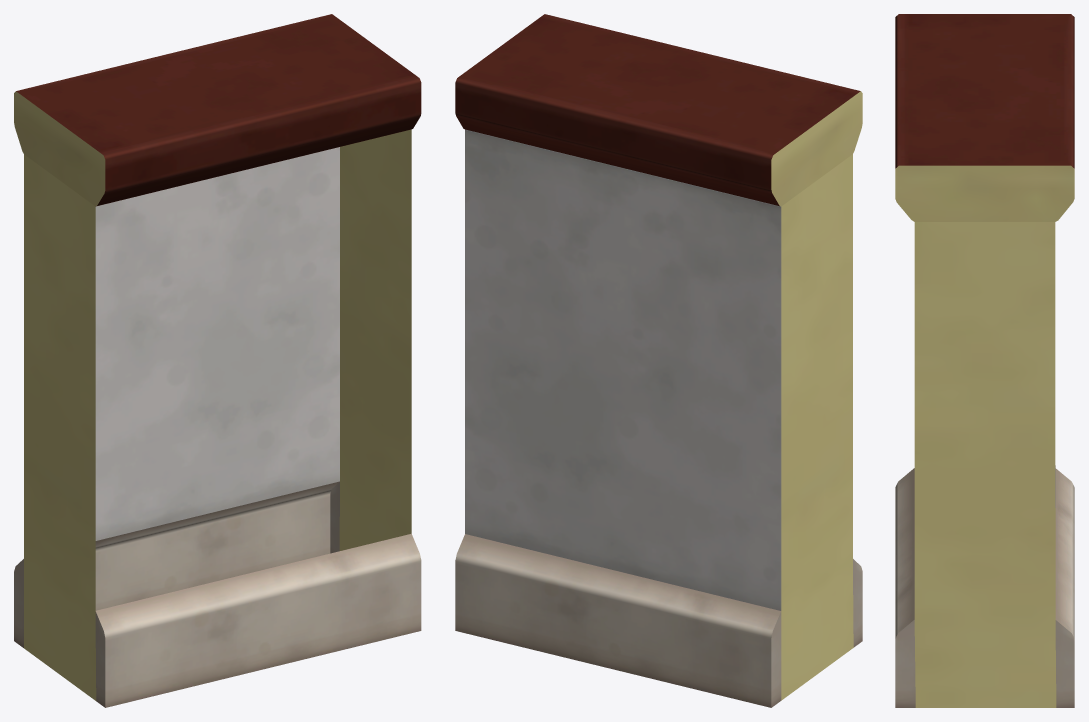
The model's file is Wall_Straight.fbx.
The picture shows the model from 3 angles, left to right: view 1: azimuth 30°, elevation 25°; view 2: azimuth 150°, elevation 25°; view 3: azimuth 270°, elevation 25°; orthographic projection.
Visible parts, largest first — view 1: m_city_wall_straight_01.021, m_city_wall_straight_04 inside.021; view 2: m_city_wall_straight_04 inside.021, m_city_wall_straight_01.021; view 3: m_city_wall_straight_01.021, m_city_wall_straight_04 inside.021.
Part boxes in pixels (x1,y1,x2,y2): m_city_wall_straight_01.021: (14, 14, 421, 707); m_city_wall_straight_04 inside.021: (95, 147, 339, 610); m_city_wall_straight_04 inside.021: (455, 129, 781, 707); m_city_wall_straight_01.021: (455, 14, 862, 707); m_city_wall_straight_01.021: (895, 14, 1074, 707); m_city_wall_straight_04 inside.021: (1055, 465, 1074, 638).
Bounding box in the file's own units: 121 × 200 × 61.34.
